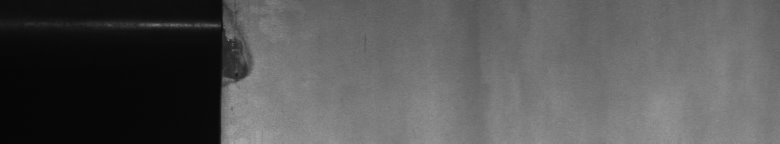hb: (232, 4, 274, 92)
